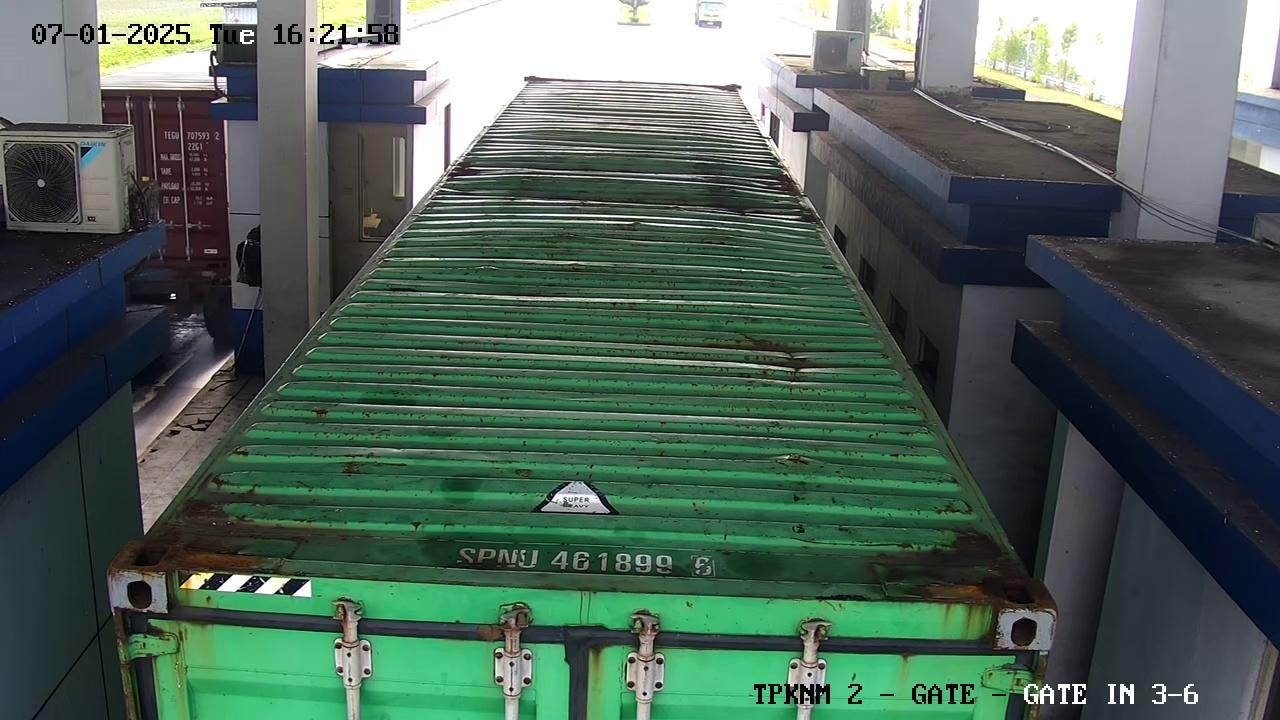Container_ID: (445, 530, 735, 602)
